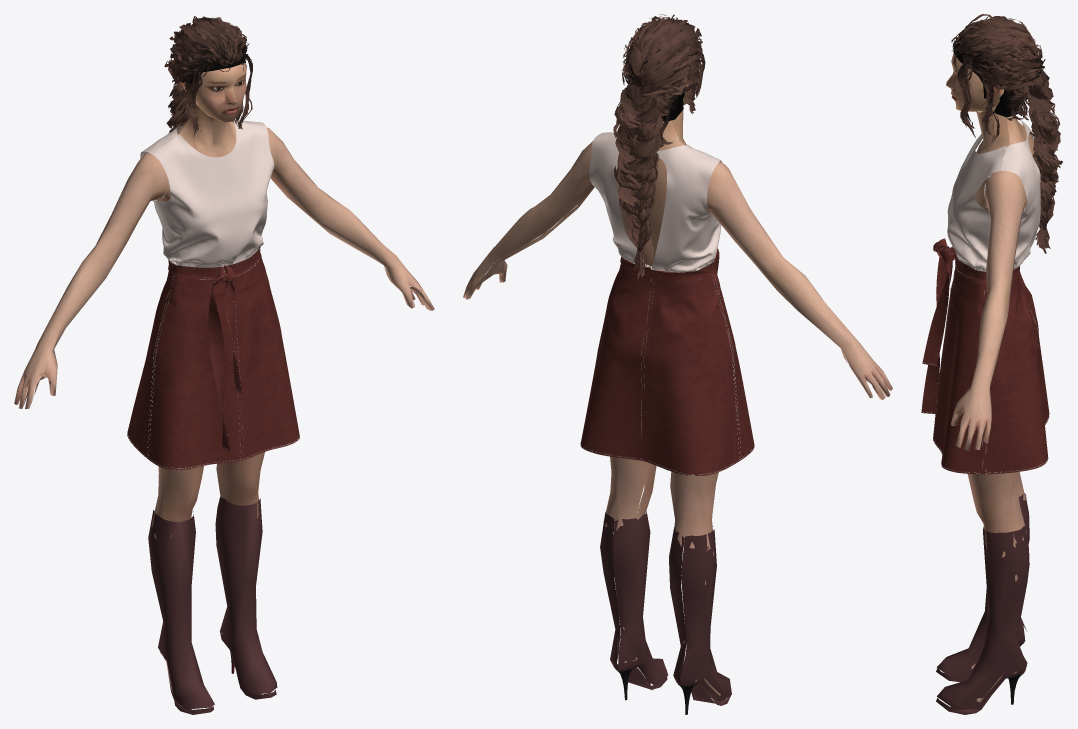
3 views of the same model, side by side, from view 1: azimuth 30°, elevation 25°; view 2: azimuth 150°, elevation 25°; view 3: azimuth 270°, elevation 25° (orthographic). The views are drawn at different scales.
Parts seen in each view (by area): view 1: Avatar, Cloth; view 2: Avatar, Cloth; view 3: Avatar, Cloth.
Part boxes in pixels (x1,y1,x2,y2): Avatar: (14,16,434,714); Cloth: (127,120,299,469); Avatar: (463,14,892,714); Cloth: (580,132,754,475); Avatar: (936,14,1063,714); Cloth: (921,119,1049,474).
Bounding box in the file's own units: 1.1 × 1.7 × 0.3262.
Materials: 25 (24 with a texture image).
